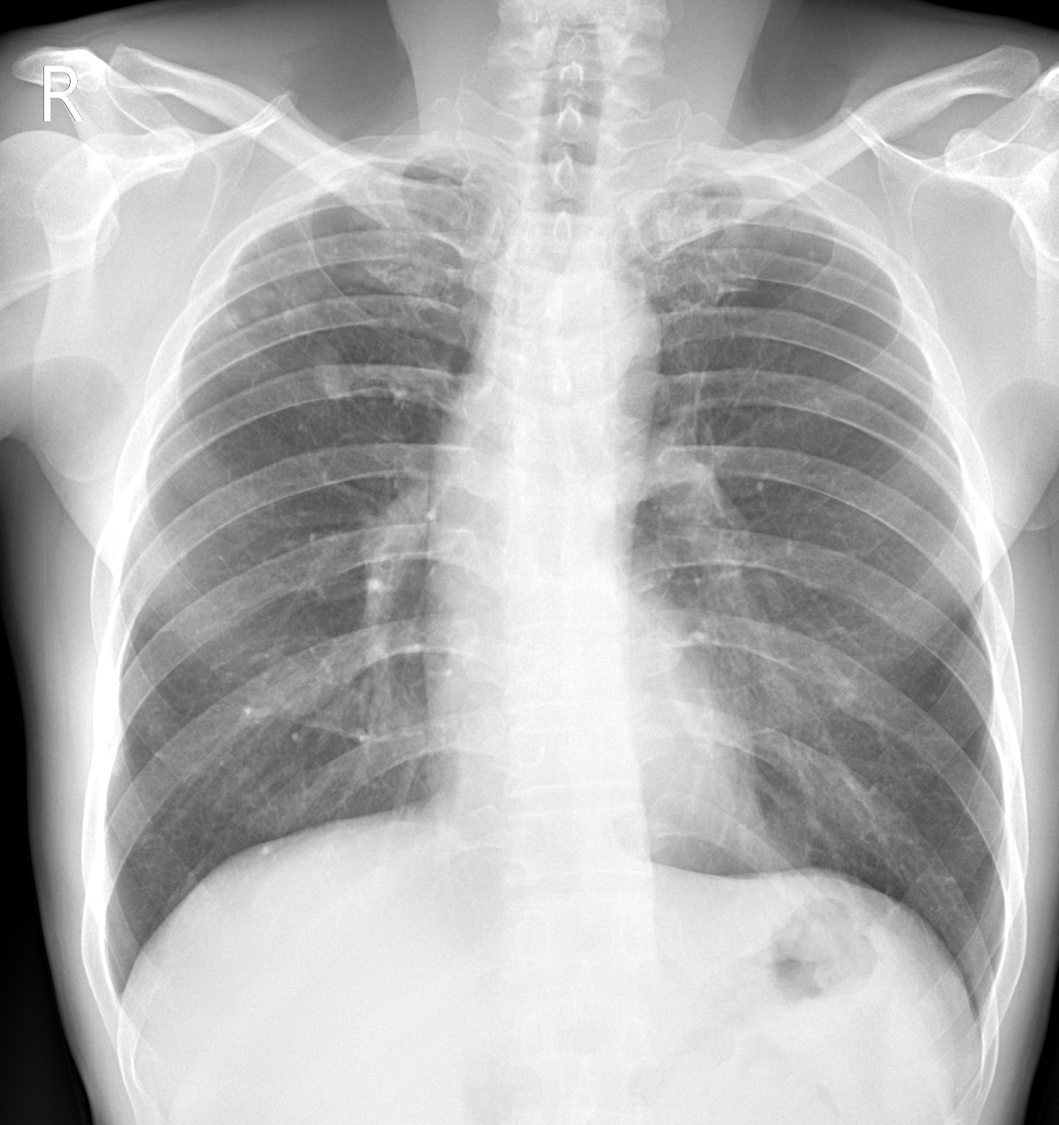Aortic enlargement: (546, 276, 664, 403)
Pleural thickening: (648, 174, 811, 207), (372, 158, 468, 181)
Pulmonary fibrosis: (213, 262, 304, 331)
